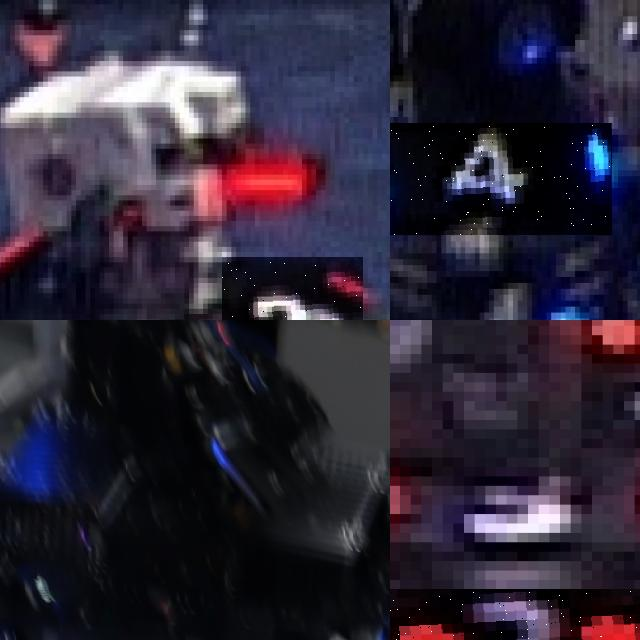B4: (390, 122, 613, 235)
R3: (390, 589, 640, 640), (222, 257, 363, 320)
